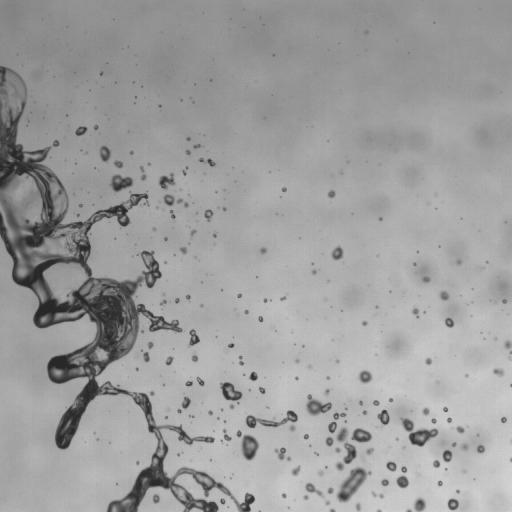droplet: (325, 427, 356, 470), (400, 417, 438, 446), (236, 431, 259, 460), (306, 394, 331, 415), (220, 382, 242, 402), (110, 174, 133, 192), (350, 428, 372, 442), (158, 173, 175, 189), (406, 498, 425, 511), (377, 409, 389, 426), (274, 448, 290, 460), (188, 329, 199, 346), (358, 370, 372, 383), (99, 146, 110, 162), (331, 246, 343, 260), (447, 498, 458, 511), (442, 449, 452, 462), (75, 126, 87, 135), (204, 209, 213, 221), (386, 461, 396, 471), (181, 397, 190, 408), (439, 291, 449, 300), (493, 368, 504, 376), (445, 318, 454, 327), (291, 466, 300, 475), (249, 371, 257, 381), (165, 356, 173, 365), (114, 160, 122, 168), (197, 377, 204, 386), (455, 426, 464, 433), (152, 494, 159, 503), (412, 307, 418, 317), (143, 352, 149, 362), (460, 443, 467, 451), (477, 445, 484, 453), (433, 459, 440, 467), (381, 478, 388, 486), (328, 190, 335, 197), (422, 407, 429, 414), (422, 276, 430, 282), (180, 247, 186, 254), (260, 247, 266, 254), (191, 354, 197, 361), (334, 447, 341, 453), (366, 448, 373, 454), (356, 503, 361, 511), (160, 299, 166, 305), (425, 358, 431, 364), (186, 380, 192, 386), (259, 387, 265, 393), (327, 487, 333, 493), (148, 341, 153, 348), (190, 229, 195, 235), (258, 316, 263, 322), (228, 343, 234, 348), (324, 389, 329, 395), (373, 400, 379, 405), (317, 470, 323, 475), (220, 498, 225, 504), (229, 404, 234, 409), (501, 417, 506, 422), (431, 418, 436, 423), (437, 481, 442, 486), (303, 494, 308, 499), (194, 144, 200, 148), (186, 294, 190, 300), (443, 406, 447, 412), (185, 150, 190, 154), (182, 169, 186, 174), (456, 260, 461, 264), (175, 298, 179, 303), (362, 321, 367, 325), (149, 391, 154, 395), (208, 410, 212, 415), (447, 417, 451, 422), (304, 434, 308, 439), (282, 493, 286, 498), (325, 500, 329, 505), (329, 508, 335, 511), (94, 125, 98, 129), (282, 187, 286, 191), (152, 227, 156, 231), (312, 270, 316, 274), (237, 293, 241, 297), (502, 299, 506, 303), (244, 310, 248, 314), (363, 410, 367, 414), (452, 442, 456, 446), (388, 398, 393, 401), (177, 409, 181, 412), (376, 509, 381, 511), (130, 151, 133, 154), (223, 207, 226, 210), (213, 233, 216, 236), (264, 299, 267, 302), (359, 401, 362, 404), (136, 461, 139, 464), (187, 137, 189, 140), (79, 204, 81, 207), (76, 214, 79, 216), (379, 217, 381, 220), (164, 238, 167, 240), (296, 359, 298, 362), (308, 365, 311, 367), (295, 377, 298, 379), (327, 376, 329, 379), (315, 452, 317, 455), (456, 490, 459, 492), (413, 263, 415, 265), (336, 360, 338, 362), (465, 374, 467, 376), (345, 408, 347, 410), (190, 415, 192, 417)
ligament: (0, 65, 252, 511), (336, 466, 371, 502), (245, 410, 297, 431), (328, 412, 345, 433), (164, 194, 188, 207), (305, 482, 323, 497), (396, 466, 408, 488), (504, 340, 511, 360), (199, 158, 214, 166), (222, 429, 231, 441), (140, 166, 146, 180), (372, 492, 383, 498), (170, 210, 175, 219), (239, 355, 243, 365), (280, 295, 286, 300), (510, 458, 511, 462)
